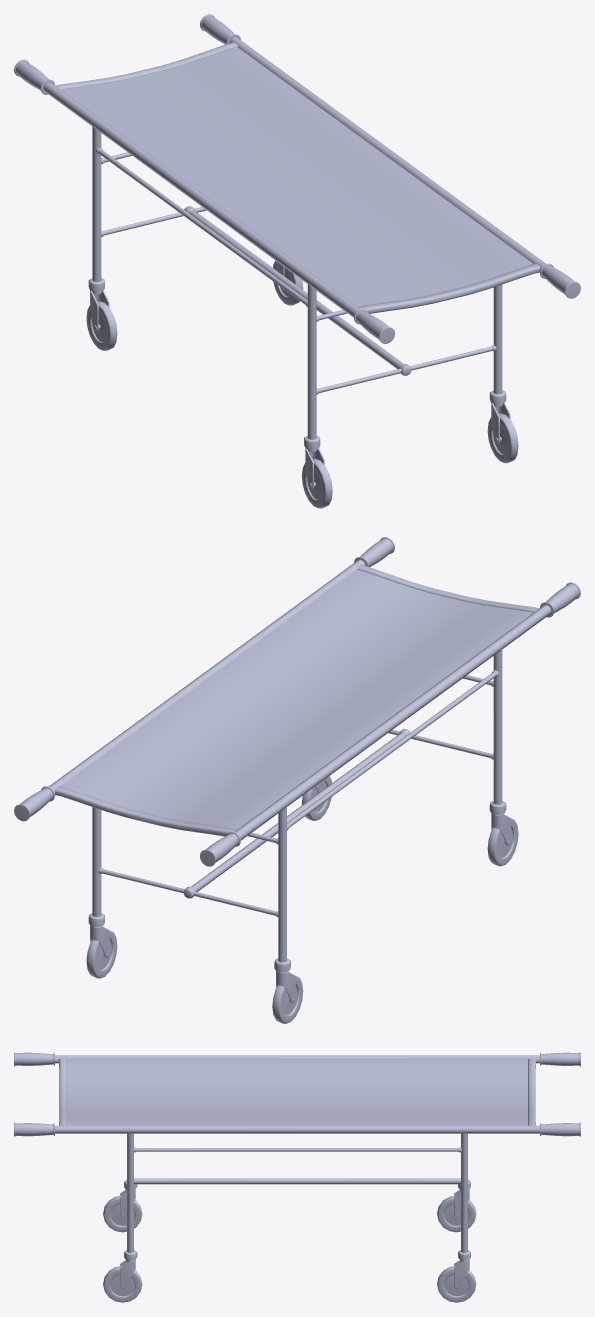
File: stretcher.fbx
3 renders of one model, top to bottom at view 1: azimuth 30°, elevation 25°; view 2: azimuth 150°, elevation 25°; view 3: azimuth 270°, elevation 25°, orthographic. The views are drawn at different scales.
Visible parts, largest first — view 1: stretcher, wheel_13, wheel_11, wheel_12; view 2: stretcher, wheel_12, wheel_11, wheel_10; view 3: stretcher, wheel_13, wheel_10, wheel_12, wheel_11.
Part boxes in pixels (x1,y1,x2,y2): stretcher: [14, 14, 580, 439]; wheel_13: [487, 390, 518, 463]; wheel_11: [86, 278, 117, 350]; wheel_12: [301, 436, 332, 508]; stretcher: [14, 537, 580, 962]; wheel_12: [487, 801, 518, 866]; wheel_11: [272, 958, 303, 1023]; wheel_10: [86, 913, 117, 978]; stretcher: [14, 1052, 580, 1252]; wheel_13: [103, 1250, 142, 1302]; wheel_10: [437, 1250, 476, 1302]; wheel_12: [103, 1179, 142, 1232]; wheel_11: [437, 1179, 476, 1232].
Size of the model in its own units: 76.21 by 83.26 by 239.
